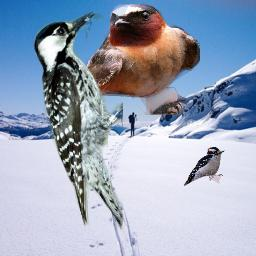Swallow: (67, 4, 200, 115)
Woodpecker: (33, 11, 123, 230), (184, 147, 225, 186)
